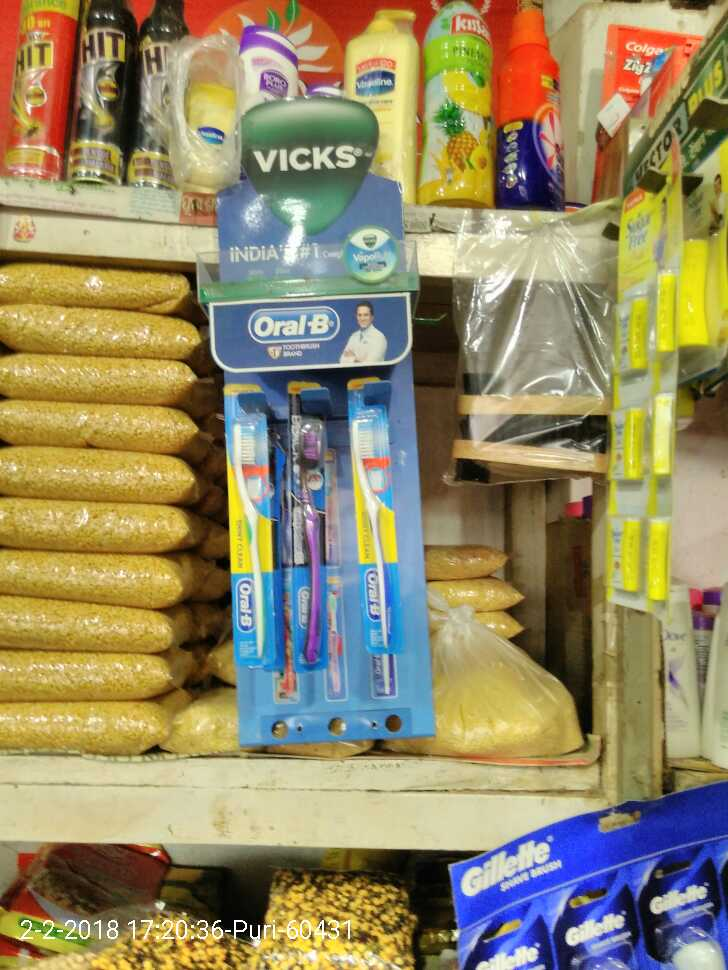oralb: (345, 389, 408, 700), (223, 386, 290, 670), (290, 397, 330, 678)
